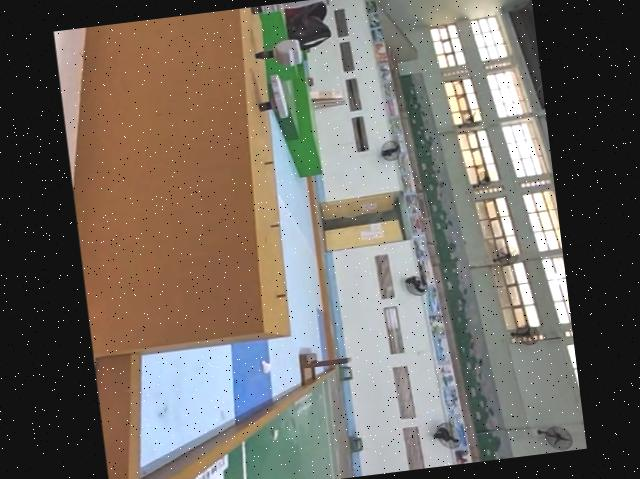Fist: (254, 37, 305, 71)
Hand: (254, 72, 290, 119)
Sph: (251, 0, 337, 18)
